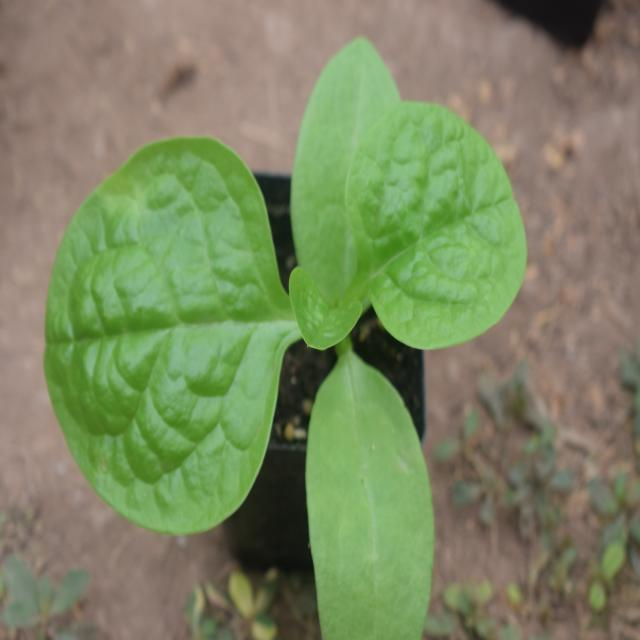Ceylon spinach: (50, 70, 518, 593)
